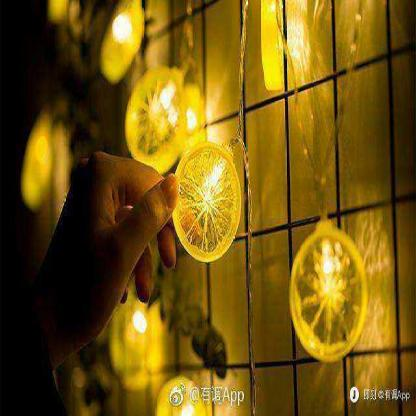other: (174, 133, 236, 266), (298, 233, 360, 363), (257, 0, 291, 96), (156, 75, 198, 142), (165, 383, 196, 414), (108, 20, 136, 53), (129, 306, 146, 343)
